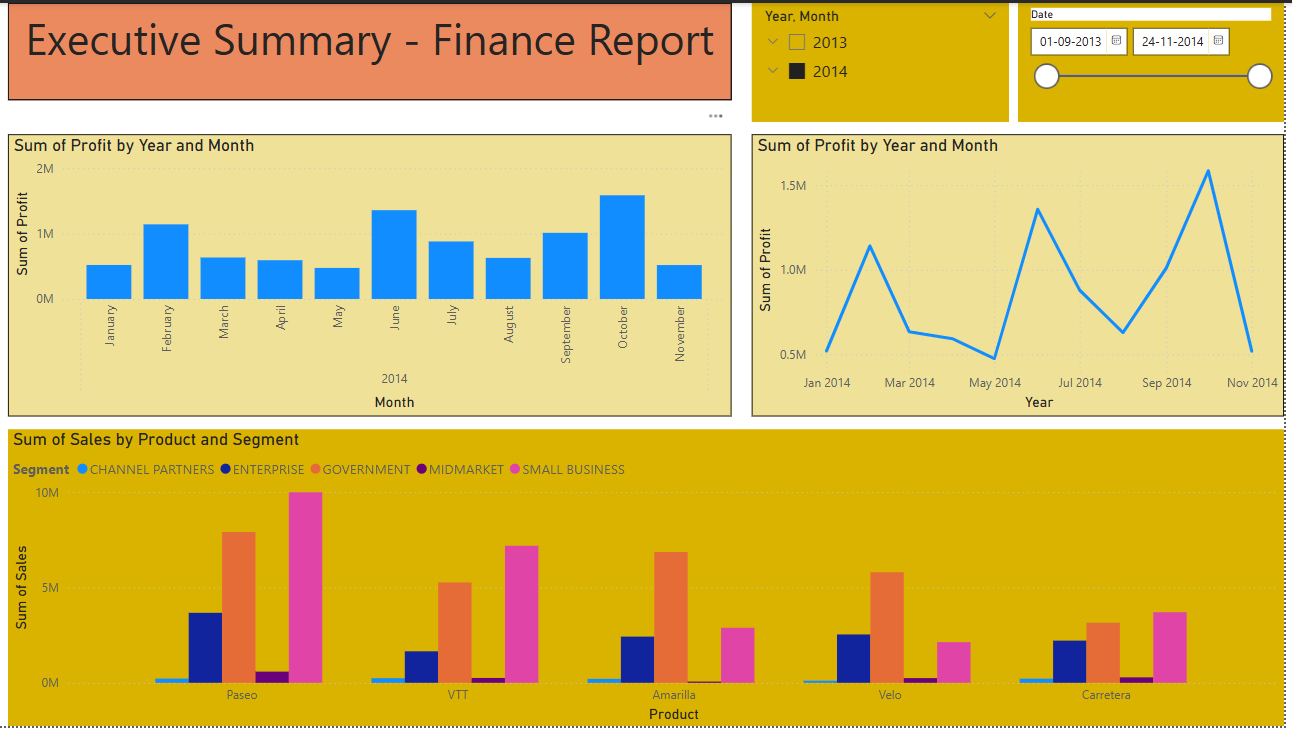

The dashboard page shown, as its layout file describes it:
{"tool":"powerbi","page":{"name":"Page 1","canvas":[1280,720],"ordinal":0},"visuals":[{"type":"textbox","box":[10,0,720.3,97],"z":0},{"type":"clusteredColumnChart","fields":{"Y":["Sum(financials.Profit)"],"Category":["Calendar.Date.Variation.Date Hierarchy.Year","Calendar.Date.Variation.Date Hierarchy.Month"]},"box":[10,130.6,720.3,281.1],"z":1000},{"type":"lineChart","fields":{"Category":["Calendar.Date.Variation.Date Hierarchy.Year","Calendar.Date.Variation.Date Hierarchy.Month"],"Y":["Sum(financials.Profit)"]},"box":[750.1,130.6,529.9,281.1],"z":2000},{"type":"clusteredColumnChart","fields":{"Y":["Sum(financials. Sales)"],"Category":["financials.Product"],"Series":["financials.Segment"]},"box":[10,424.2,1270.1,296.1],"z":3000},{"type":"slicer","fields":{"Values":["financials.Date"]},"box":[1015.1,0,265,118.2],"z":4000},{"type":"slicer","fields":{"Values":["Calendar.Date.Variation.Date Hierarchy.Year","Calendar.Date.Variation.Date Hierarchy.Month"]},"box":[750.1,0,256.3,118.2],"z":4001}]}

Visuals, with their boxes in screenshot pixels (x1, y1, x2, y2), scaled from the page's 1280x720 canvas onto the 1292x731 screenshot:
textbox: bbox=[10, 0, 737, 98]
clusteredColumnChart - Sum(financials.Profit) x Calendar.Date.Variation.Date Hierarchy.Year: bbox=[10, 133, 737, 418]
lineChart - Calendar.Date.Variation.Date Hierarchy.Year x Calendar.Date.Variation.Date Hierarchy.Month: bbox=[757, 133, 1291, 418]
clusteredColumnChart - Sum(financials. Sales) x financials.Product: bbox=[10, 431, 1291, 730]
slicer - financials.Date: bbox=[1025, 0, 1291, 120]
slicer - Calendar.Date.Variation.Date Hierarchy.Year x Calendar.Date.Variation.Date Hierarchy.Month: bbox=[757, 0, 1016, 120]
